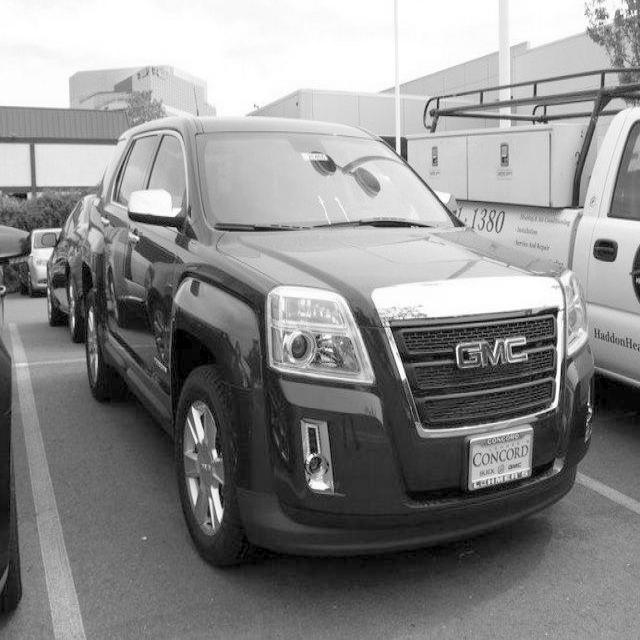car: (72, 105, 599, 580)
plat_license: (466, 427, 534, 490)
